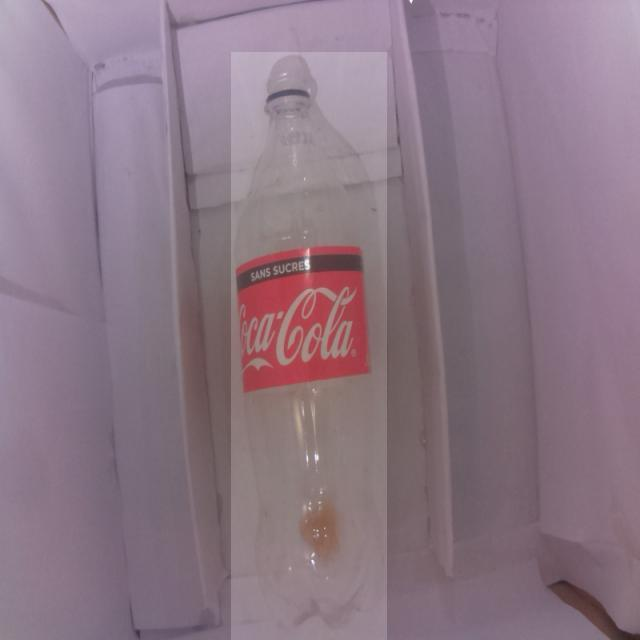good: (231, 52, 387, 640)
